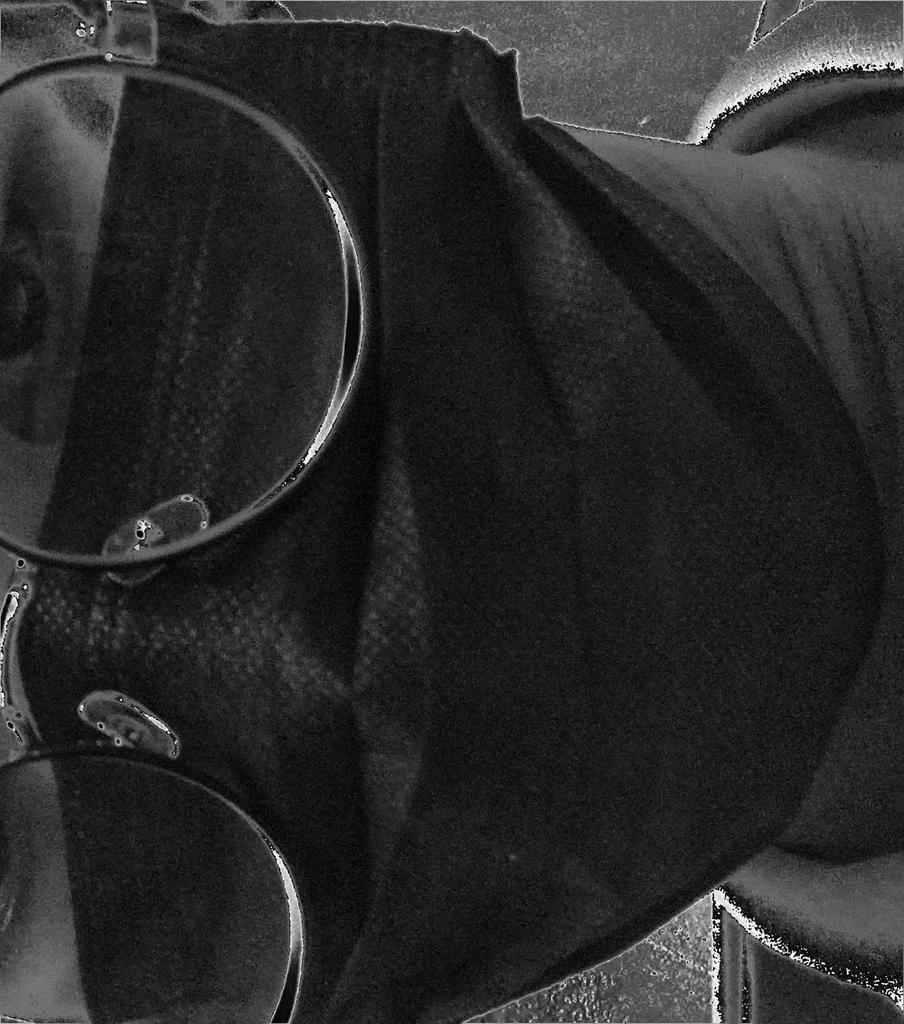Low GSM: (19, 11, 894, 1017)
